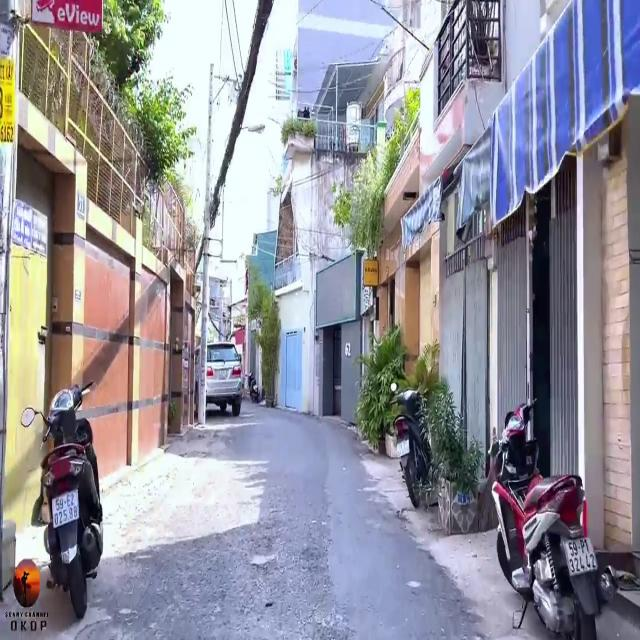bien_trang: (562, 535, 601, 580), (49, 493, 83, 526)
